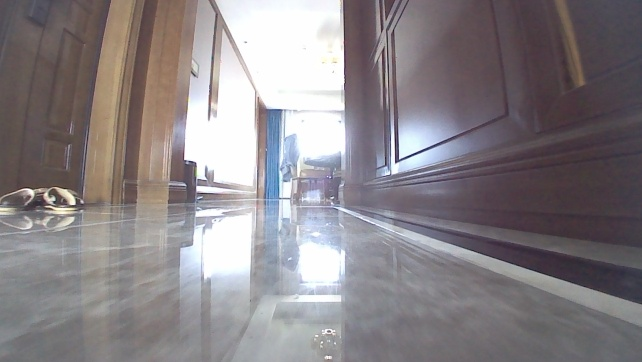door_anno: (0, 0, 147, 217)
slipper: (40, 185, 80, 213), (0, 187, 39, 213)
